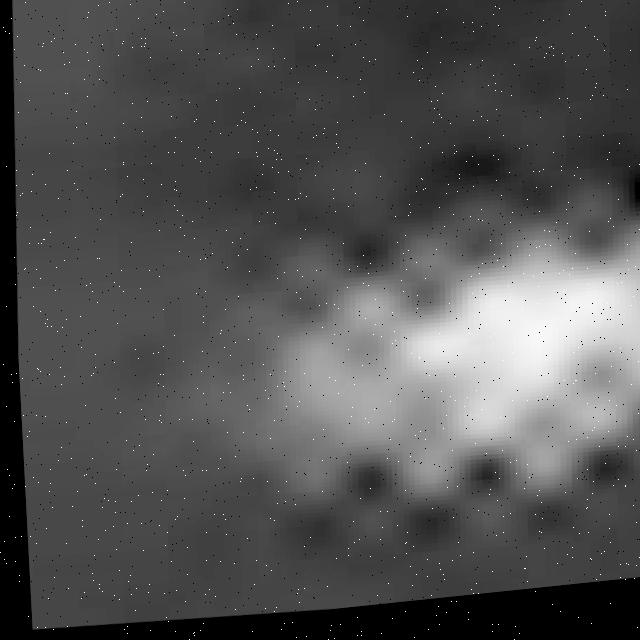person: (236, 156, 640, 553)
